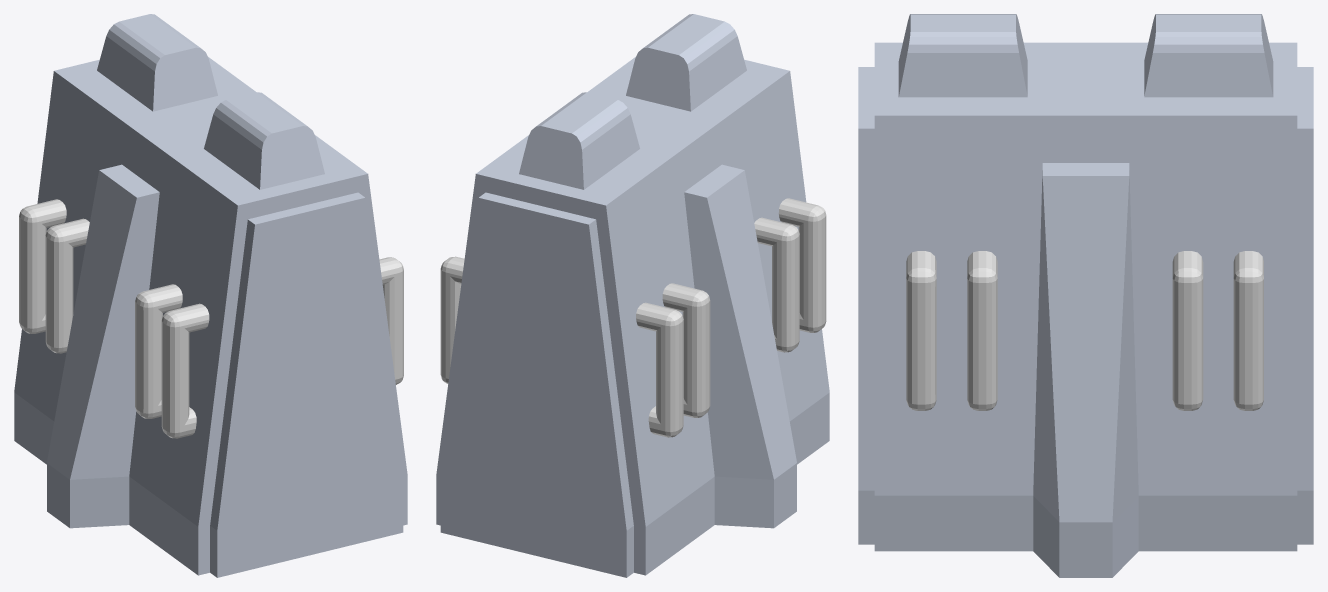
The model's file is Wall(1).fbx.
The picture shows the model from 3 angles, left to right: view 1: azimuth 30°, elevation 25°; view 2: azimuth 150°, elevation 25°; view 3: azimuth 270°, elevation 25°; orthographic projection. The views are drawn at different scales.
Visible parts, largest first — view 1: Base Baricade, Tubes.003, Tubes.002, Tubes.001; view 2: Base Baricade, Tubes.002, Tubes.003, Tubes; view 3: Base Baricade, Tubes, Tubes.001.
Boxes of the visible parts, x1,y1,x2,y2 form: Base Baricade: [14, 14, 407, 577]; Tubes.003: [135, 284, 209, 438]; Tubes.002: [19, 199, 89, 353]; Tubes.001: [379, 257, 403, 384]; Base Baricade: [436, 14, 829, 577]; Tubes.002: [636, 283, 710, 437]; Tubes.003: [754, 198, 826, 352]; Tubes: [440, 256, 464, 383]; Base Baricade: [858, 14, 1313, 577]; Tubes: [1172, 251, 1263, 410]; Tubes.001: [906, 251, 997, 410].
Size of the model in its own units: 88.62 by 113 by 99.87.
